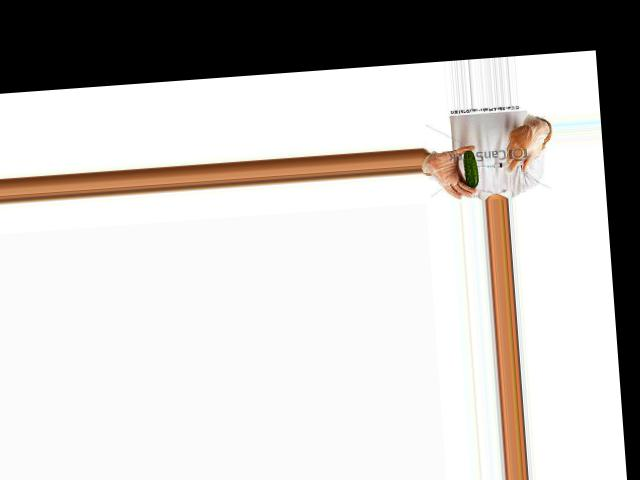cucumber: (461, 148, 478, 188)
